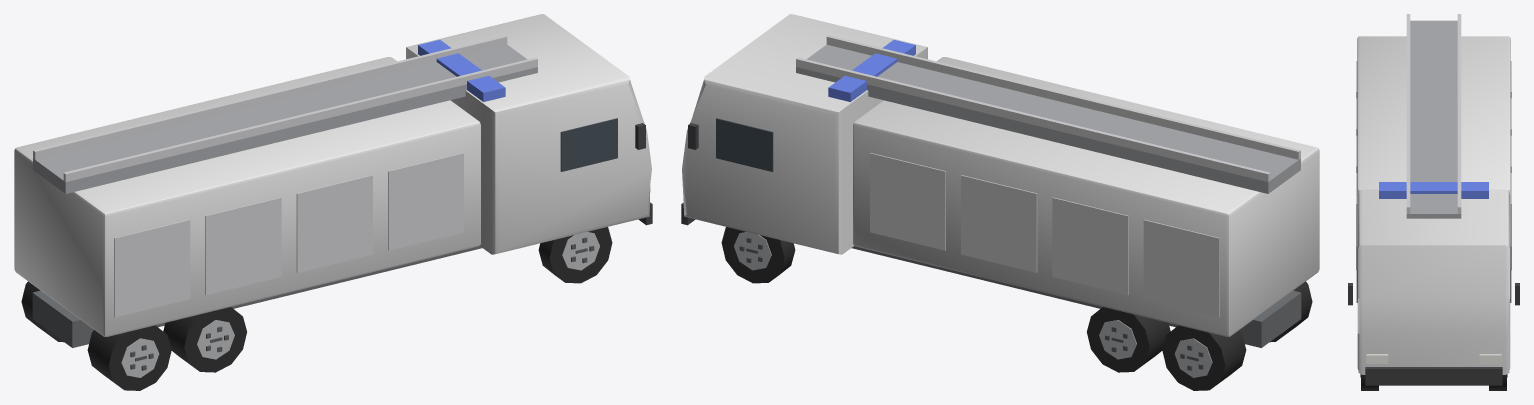
File: firetruck.glb
3 views of the same model, side by side, from view 1: azimuth 30°, elevation 25°; view 2: azimuth 150°, elevation 25°; view 3: azimuth 270°, elevation 25° (orthographic). The views are drawn at different scales.
Visible parts, largest first — view 1: firetruck; view 2: firetruck; view 3: firetruck.
Boxes of the visible parts, x1=… form: firetruck: x1=14, y1=14, x2=652, y2=390; firetruck: x1=681, y1=14, x2=1319, y2=390; firetruck: x1=1348, y1=14, x2=1519, y2=390.
Bounding box in the file's own units: 8.93 × 3.16 × 2.82.
